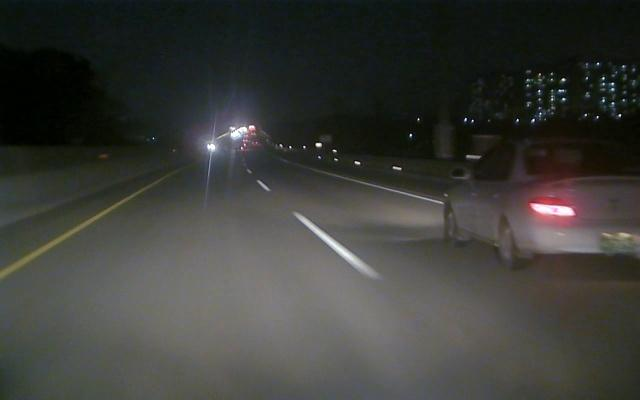lane: (247, 172, 390, 282), (302, 167, 445, 206)
